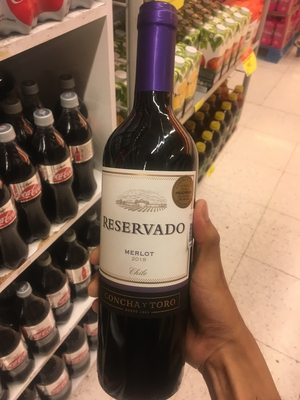reservado merlot: (91, 3, 199, 392)
